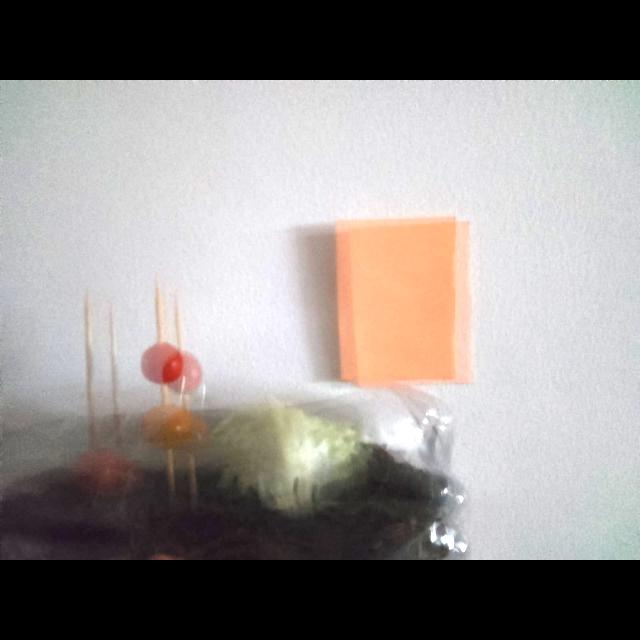card: (336, 217, 472, 384)
fruit_maturation: (142, 404, 208, 451)
fully_grown: (140, 342, 183, 384), (169, 352, 202, 393)
